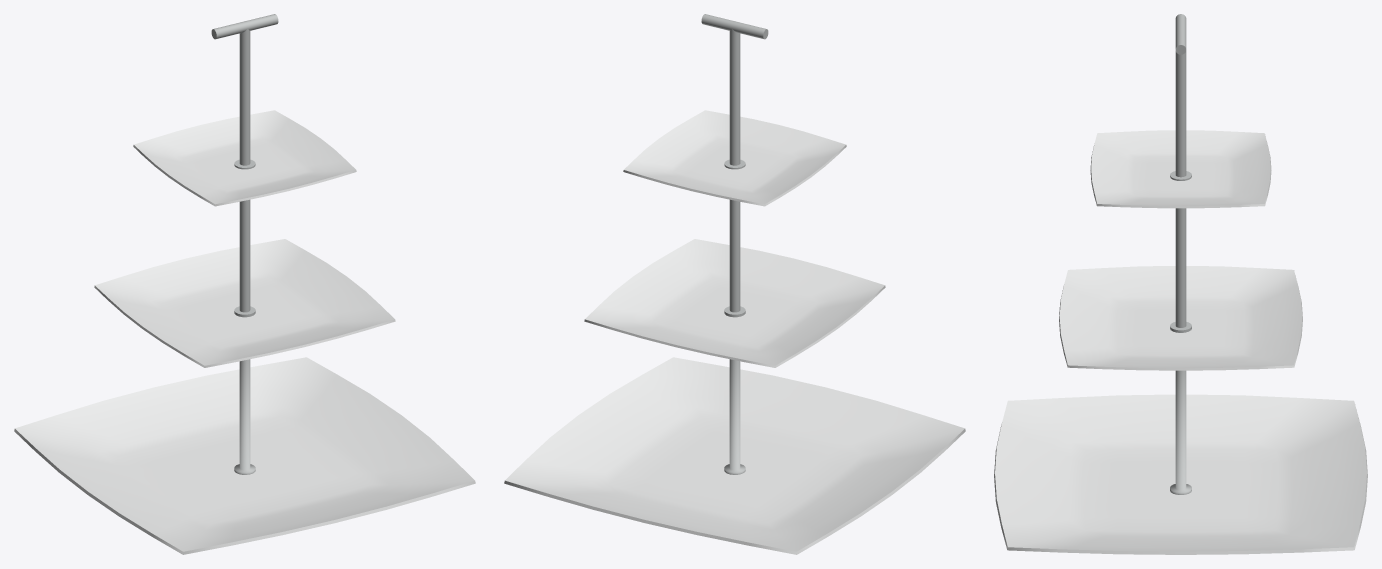
The model's file is Etagere3.FBX.
The picture shows the model from 3 angles, left to right: view 1: azimuth 30°, elevation 25°; view 2: azimuth 150°, elevation 25°; view 3: azimuth 270°, elevation 25°; orthographic projection. The views are drawn at different scales.
Visible parts, largest first — view 1: Etagere3; view 2: Etagere3; view 3: Etagere3.
Part boxes in pixels (left/top/right/bottom): Etagere3: left=14, top=14, right=475, bottom=554; Etagere3: left=504, top=14, right=965, bottom=554; Etagere3: left=994, top=14, right=1367, bottom=554.
Size of the model in its own units: 0.201 by 0.2788 by 0.201.
Materials: 1 (1 with a texture image).
